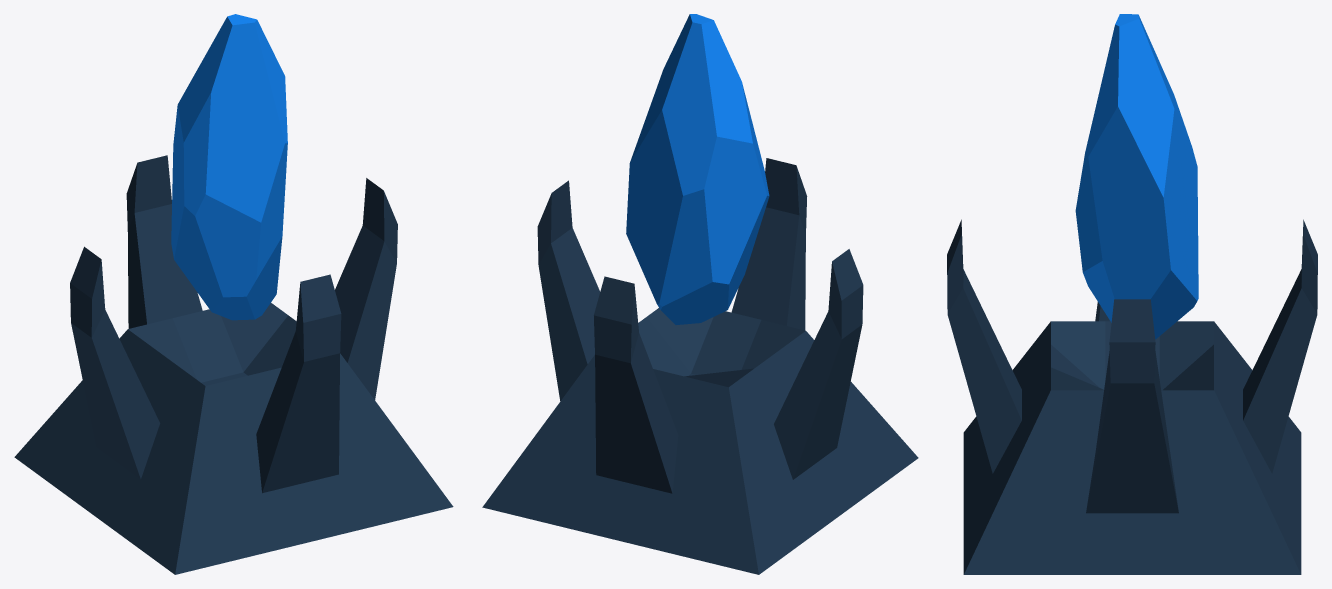
Rendered from crystal.fbx.
The picture shows the model from 3 angles, left to right: view 1: azimuth 30°, elevation 25°; view 2: azimuth 150°, elevation 25°; view 3: azimuth 270°, elevation 25°; orthographic projection. The views are drawn at different scales.
Visible parts, largest first — view 1: Cube.010; view 2: Cube.010; view 3: Cube.010.
Part boxes in pixels (x1,y1,x2,y2): Cube.010: (14,14,453,574); Cube.010: (482,14,918,574); Cube.010: (947,14,1317,574).
Size of the model in its own units: 454 by 659 by 454.
